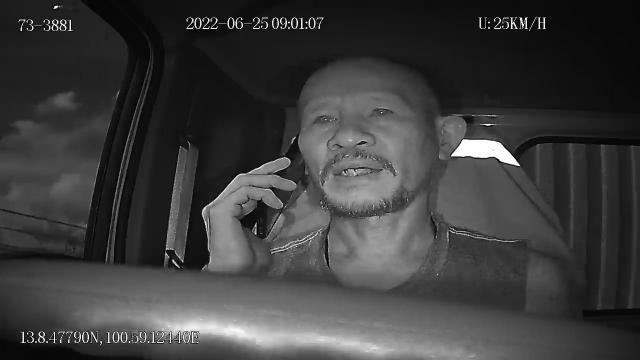PhoneUse: (252, 132, 306, 240)
SafeDriving: (304, 103, 346, 135), (362, 96, 404, 125)
